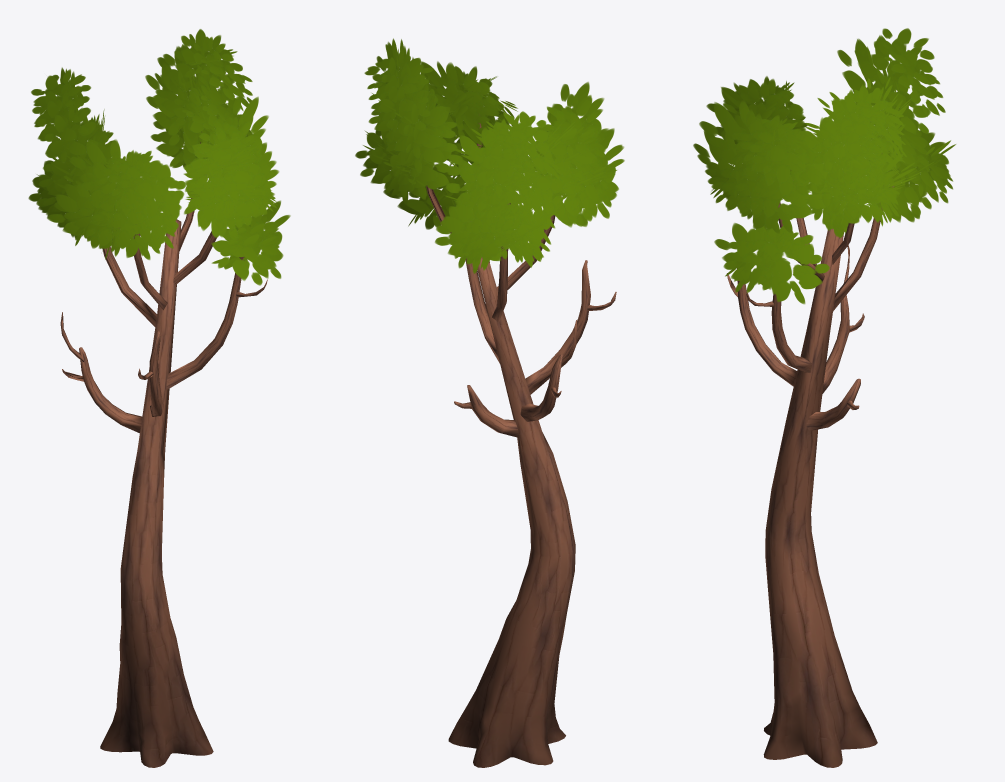
File: tree-3.glb
The picture shows the model from 3 angles, left to right: view 1: azimuth 30°, elevation 25°; view 2: azimuth 150°, elevation 25°; view 3: azimuth 270°, elevation 25°; orthographic projection. The views are drawn at different scales.
Parts seen in each view (by area): view 1: CommonTree_4; view 2: CommonTree_4; view 3: CommonTree_4.
Boxes of the visible parts, <box> form: CommonTree_4: <box>28,29,290,767</box>; CommonTree_4: <box>355,38,624,767</box>; CommonTree_4: <box>693,28,955,767</box>.
Bounding box in the file's own units: 3.83 × 9.44 × 3.76.
2 materials, 2 textured.
